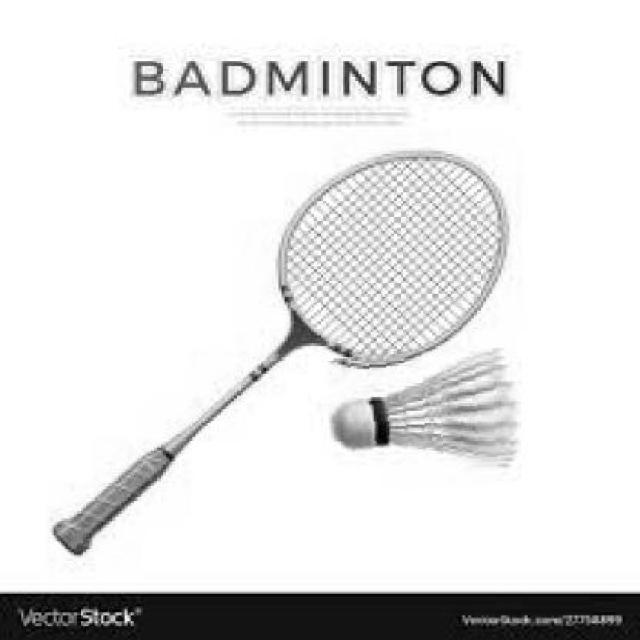Shuttlecock: (324, 348, 522, 472)
